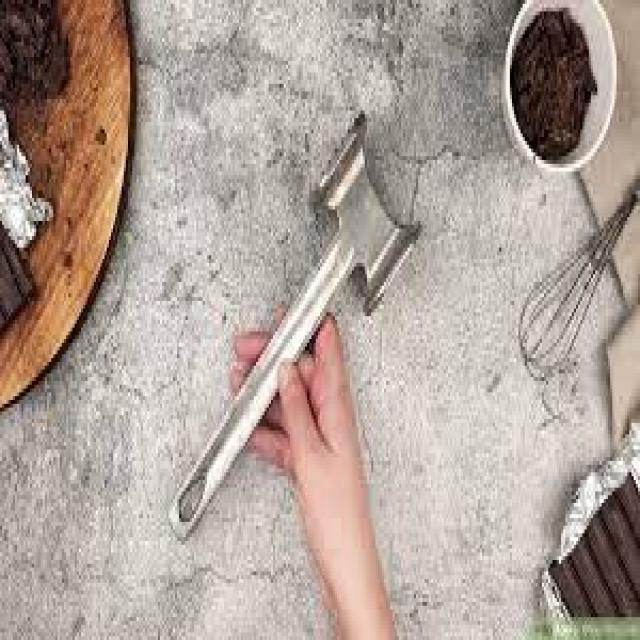hammer: (158, 102, 431, 548)
